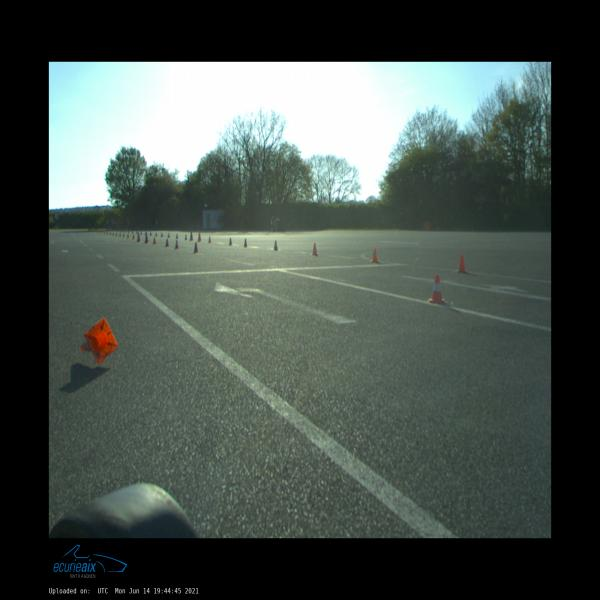blue_cone: (184, 234, 188, 240), (160, 232, 164, 237), (149, 230, 152, 235), (144, 230, 147, 235), (176, 233, 178, 239), (140, 230, 142, 235), (168, 233, 170, 237), (155, 232, 157, 236), (136, 230, 138, 234), (132, 230, 134, 233)
large_orange_cone: (137, 231, 141, 242), (189, 232, 194, 240), (144, 233, 148, 243), (198, 232, 202, 241)
orange_cone: (80, 318, 118, 364), (428, 275, 447, 304), (456, 255, 467, 273), (371, 248, 379, 262), (311, 242, 318, 255), (174, 240, 179, 249), (165, 238, 170, 247), (194, 242, 198, 253), (228, 238, 233, 246), (244, 238, 248, 247), (274, 241, 278, 250), (208, 235, 212, 242), (153, 237, 156, 244)
yellow_cone: (126, 233, 130, 239), (132, 234, 135, 239), (122, 233, 125, 238), (112, 231, 115, 236), (119, 232, 121, 237), (110, 232, 112, 235), (104, 231, 106, 234), (116, 232, 117, 236), (107, 231, 108, 235)
